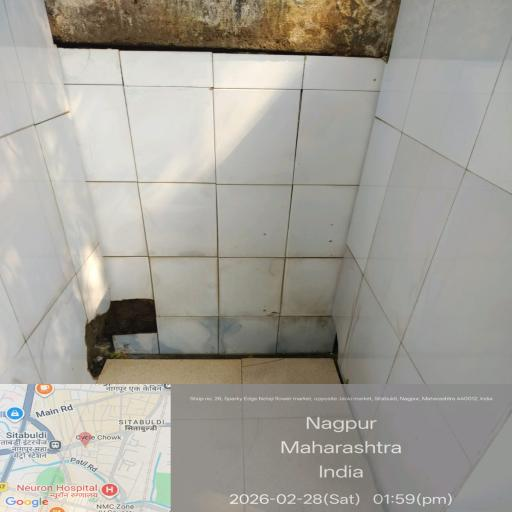clean_floor: (76, 60, 362, 230), (398, 41, 507, 377), (0, 41, 68, 386)
damage: (82, 296, 159, 380)
partial_dirty_floor: (145, 235, 365, 385), (48, 16, 406, 59)
